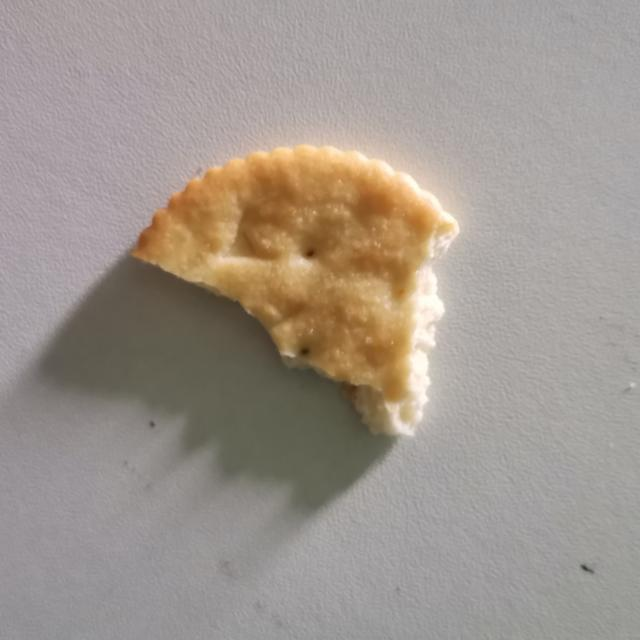Broken: (129, 142, 459, 438)
